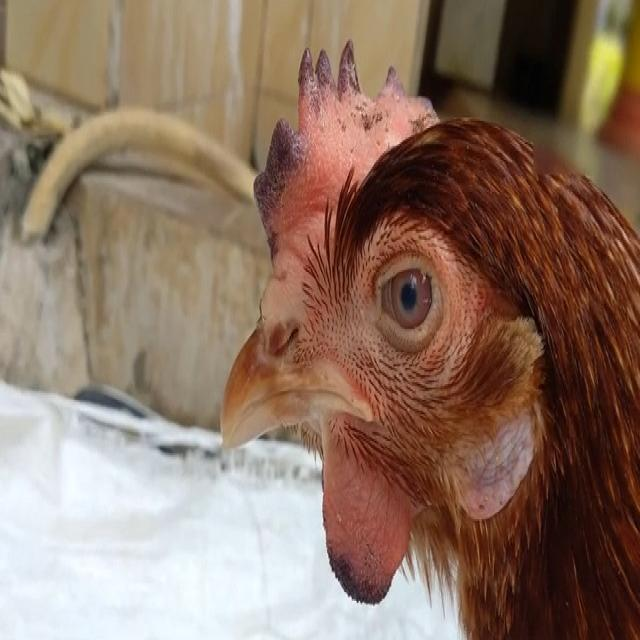bird flu: (215, 19, 640, 640)
